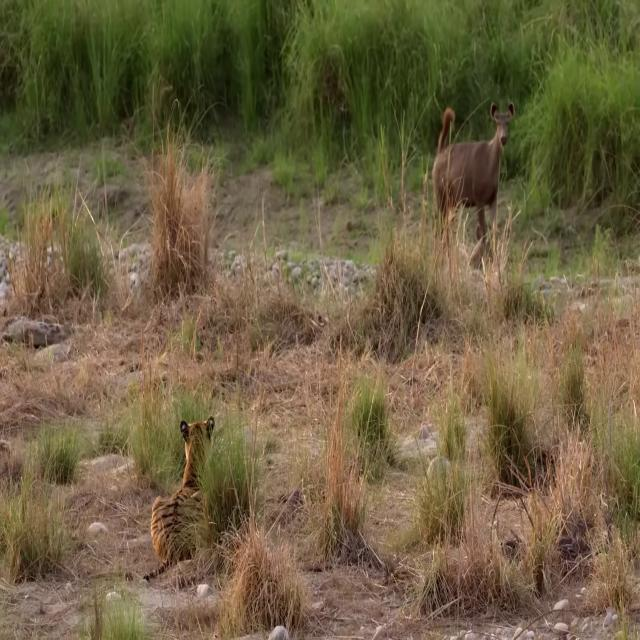tiger: (142, 415, 216, 581)
